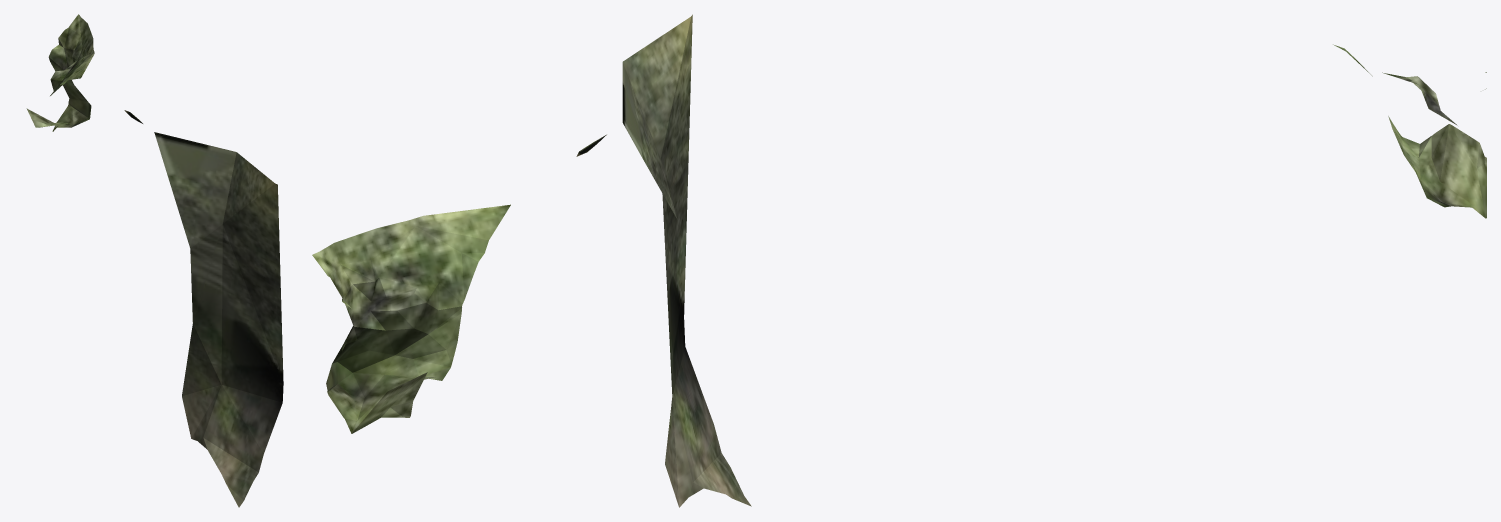
3 views of the same model, side by side, from view 1: azimuth 30°, elevation 25°; view 2: azimuth 150°, elevation 25°; view 3: azimuth 270°, elevation 25° (orthographic). The views are drawn at different scales.
Size of the model in its own units: 3.89 by 18.2 by 23.6.
1 material, 1 textured.
